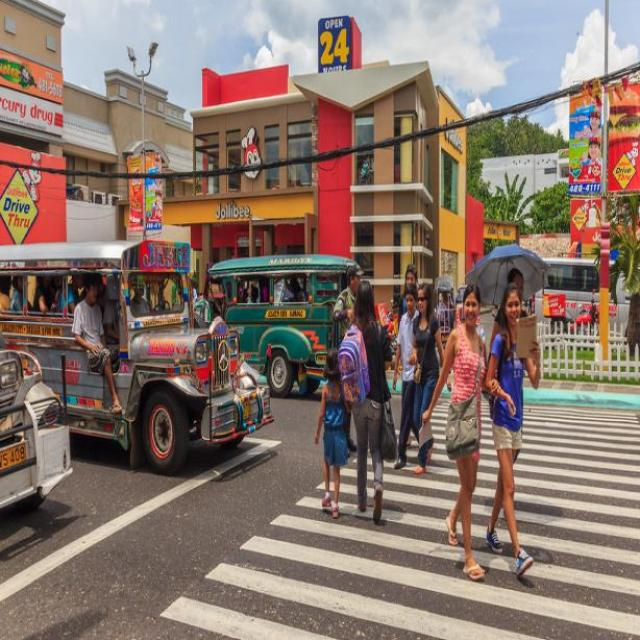pedestrian lane: (160, 398, 640, 640)
